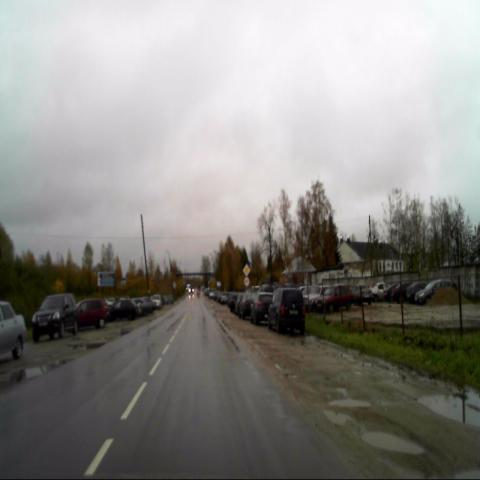2_1: (242, 263, 250, 277)
